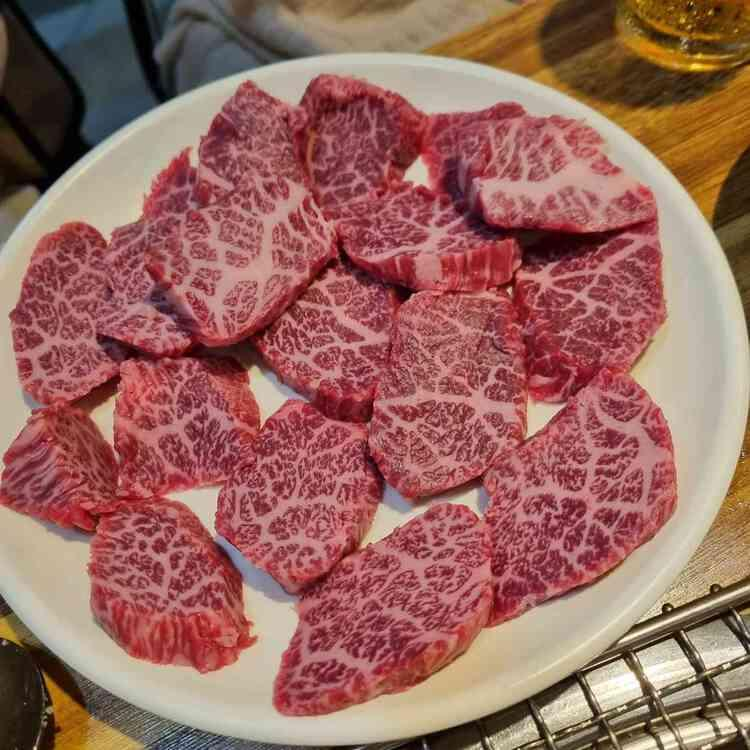beef: (154, 156, 660, 690)
